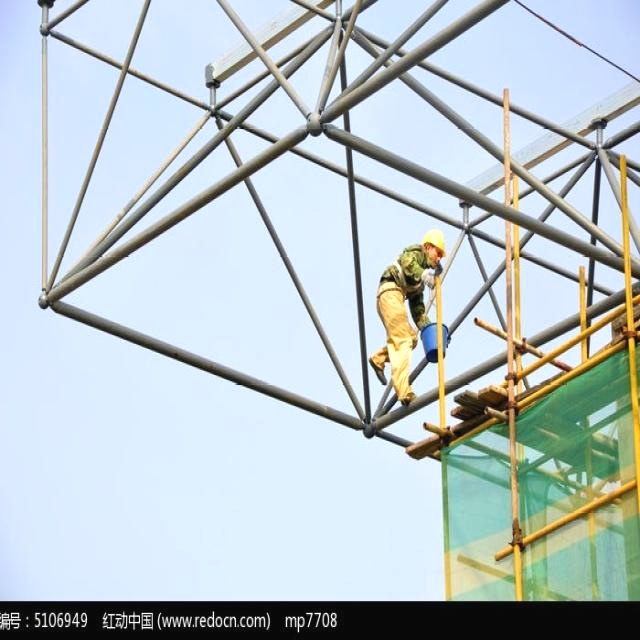Con_Casco: (424, 226, 445, 267)
